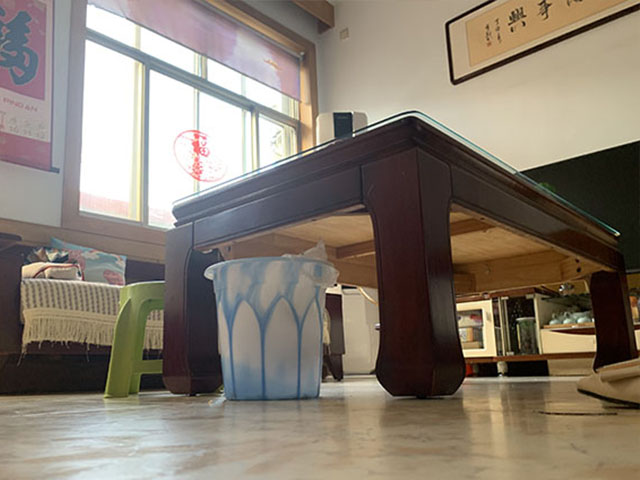sofa: (1, 230, 167, 393)
stool: (104, 280, 165, 399)
table: (161, 109, 638, 401)
trashcan: (204, 254, 340, 403)
